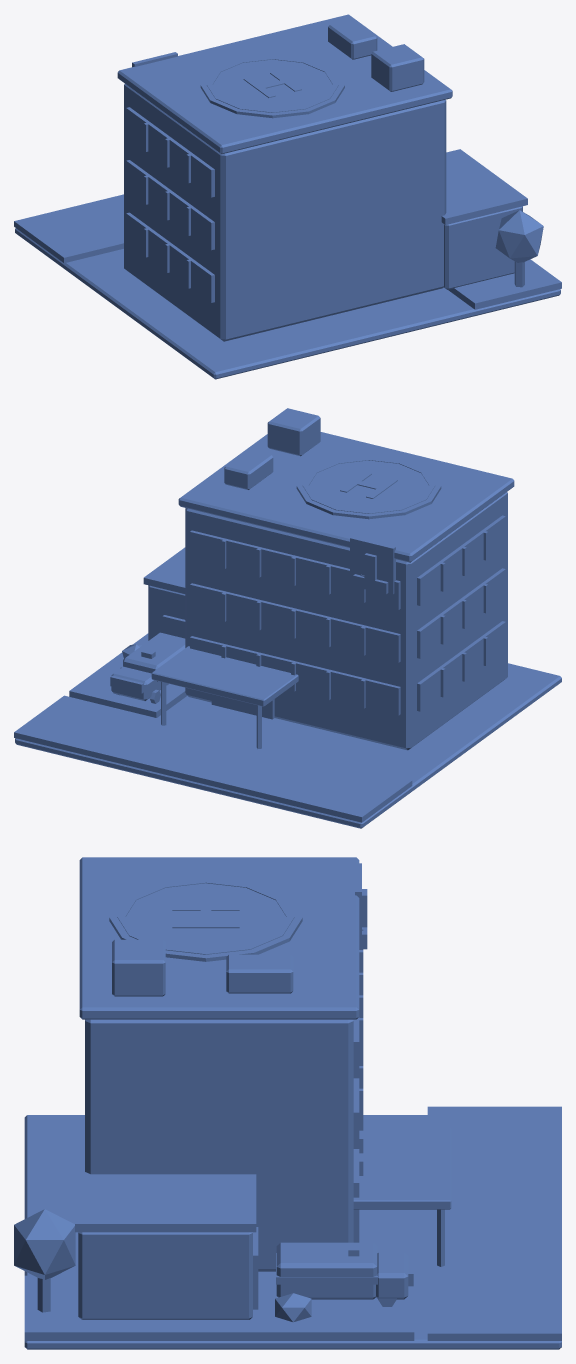
3 renders of one model, top to bottom at view 1: azimuth 30°, elevation 25°; view 2: azimuth 150°, elevation 25°; view 3: azimuth 270°, elevation 25°, orthographic. The views are drawn at different scales.
Visible parts, largest first — view 1: corpo; view 2: corpo; view 3: corpo.
Boxes of the visible parts, x1,y1,x2,y2 form: corpo: [14, 14, 561, 379]; corpo: [14, 408, 561, 828]; corpo: [14, 857, 561, 1349].
Size of the model in its own units: 4 by 2.64 by 4.08.
